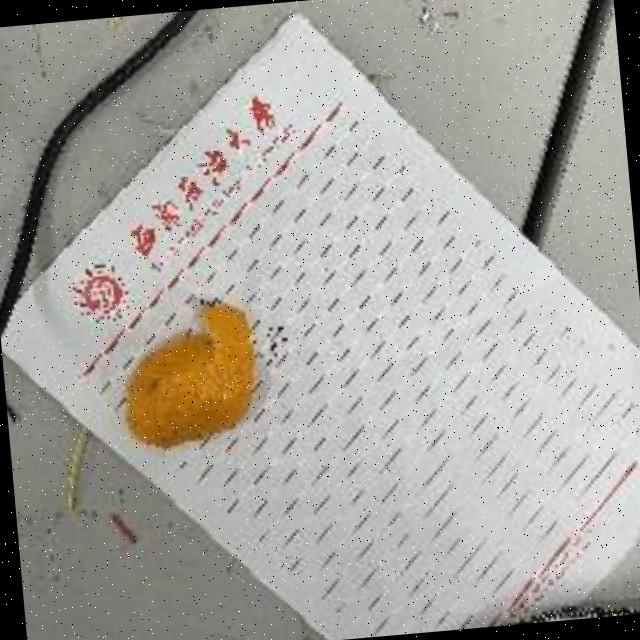orange-peel: (113, 296, 264, 452)
